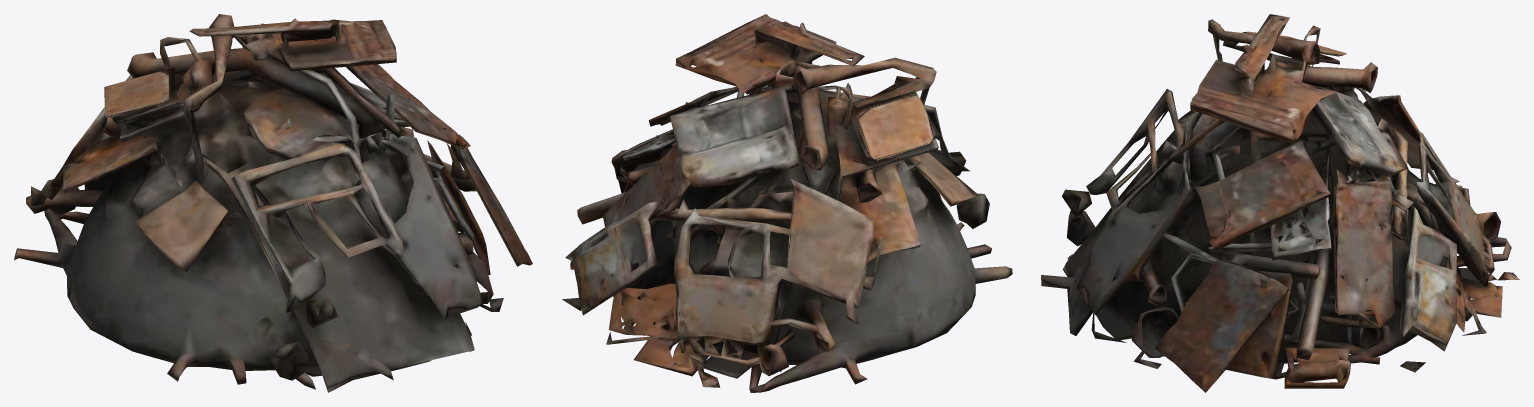
Rendered from p_scrap.glb.
The picture shows the model from 3 angles, left to right: view 1: azimuth 30°, elevation 25°; view 2: azimuth 150°, elevation 25°; view 3: azimuth 270°, elevation 25°; orthographic projection. The views are drawn at different scales.
Visible parts, largest first — view 1: tripo_node_b1871c4f-7413-4f87-a300-64f04713adef; view 2: tripo_node_b1871c4f-7413-4f87-a300-64f04713adef; view 3: tripo_node_b1871c4f-7413-4f87-a300-64f04713adef.
Part boxes in pixels (left/top/right/bottom): tripo_node_b1871c4f-7413-4f87-a300-64f04713adef: left=14, top=14, right=532, bottom=392; tripo_node_b1871c4f-7413-4f87-a300-64f04713adef: left=562, top=14, right=1012, bottom=392; tripo_node_b1871c4f-7413-4f87-a300-64f04713adef: left=1041, top=14, right=1519, bottom=392.
Bounding box in the file's own units: 0.8746 × 0.5898 × 1.
1 material, 1 textured.
